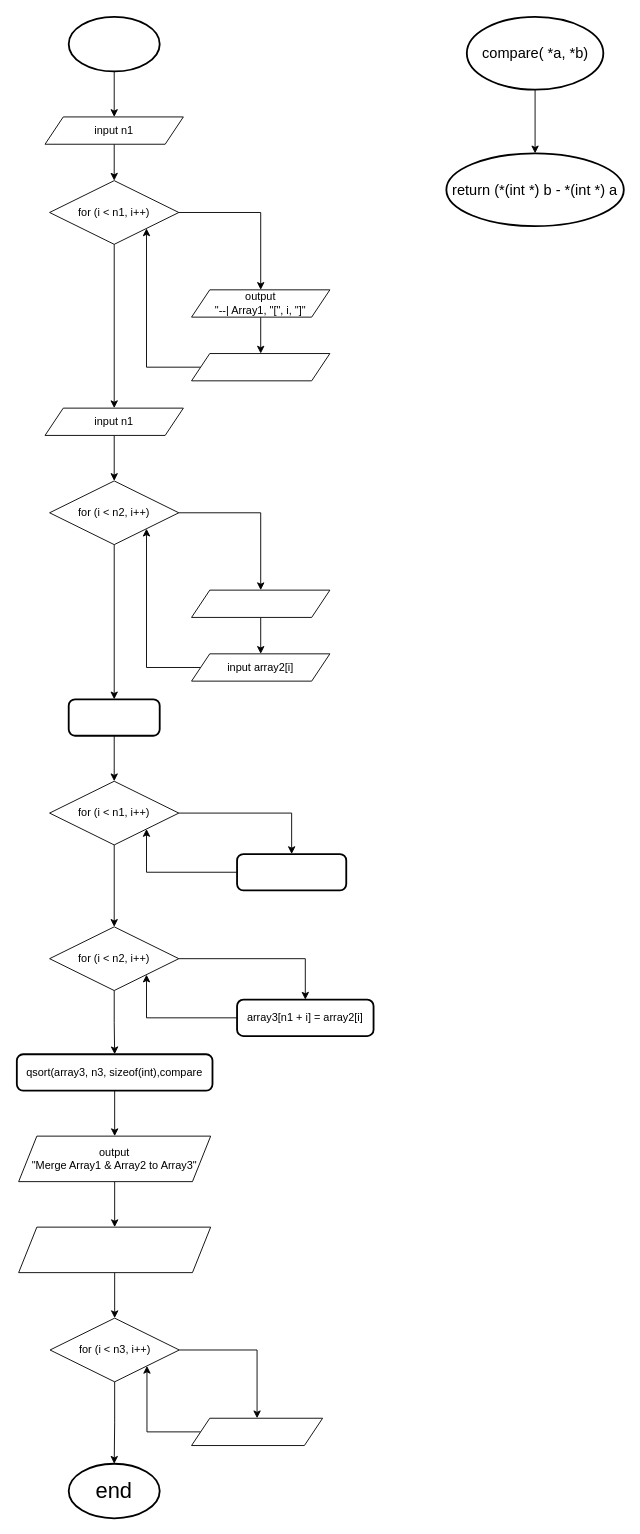
Some shapes in this 640 by 1534 pixel diagram are drawn without their labels. Each missing label, with the centre of its shape:
array3[i] = array1[i]: pixel 291 872
input array1[i]: pixel 260 367
n3 = n1 + n2: pixel 113 717
output "--| Array2, "[", i, "]": pixel 260 603
output "Array3 = ": pixel 114 1249
output array3[i]: pixel 257 1431
start: pixel 113 43
